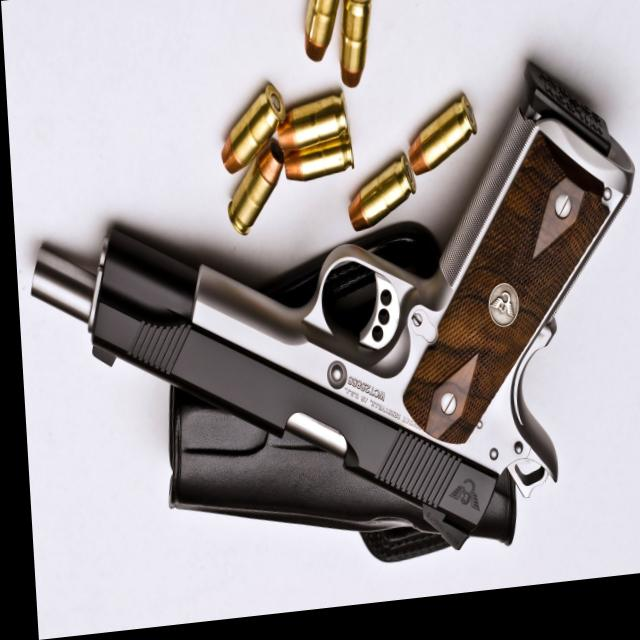handgun: (18, 66, 640, 596)
